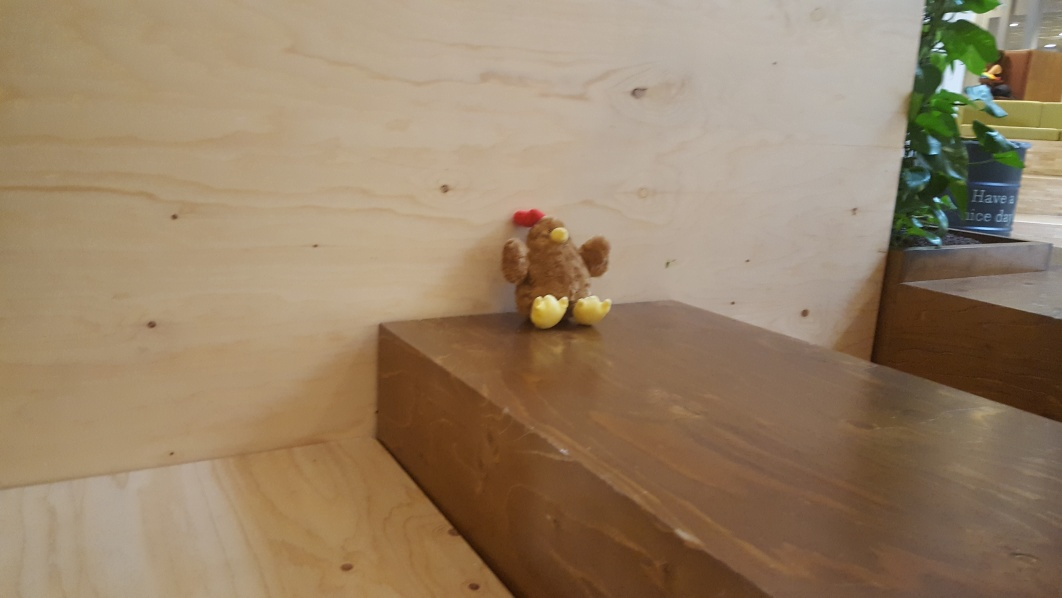chicken: (502, 205, 619, 328)
